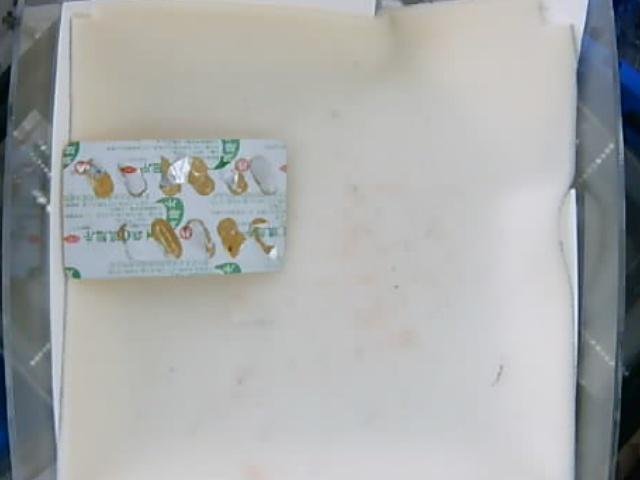Medicine: (58, 138, 289, 282)
